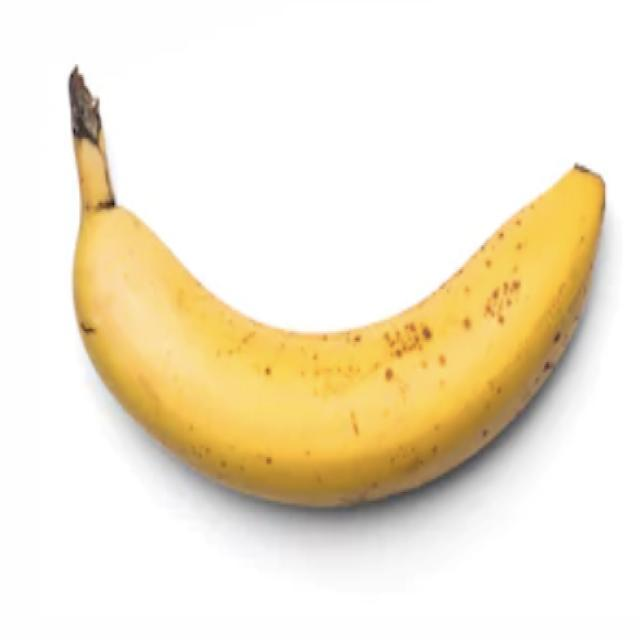Banana: (66, 63, 606, 509)
